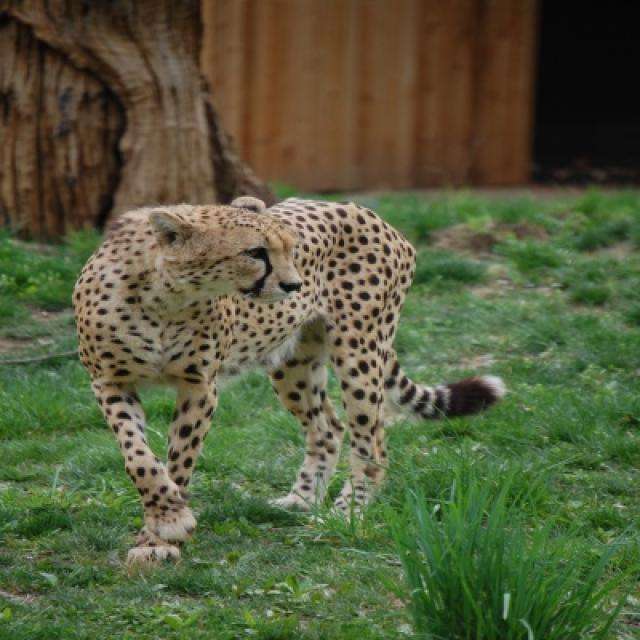Cheetah: (66, 190, 511, 559)
